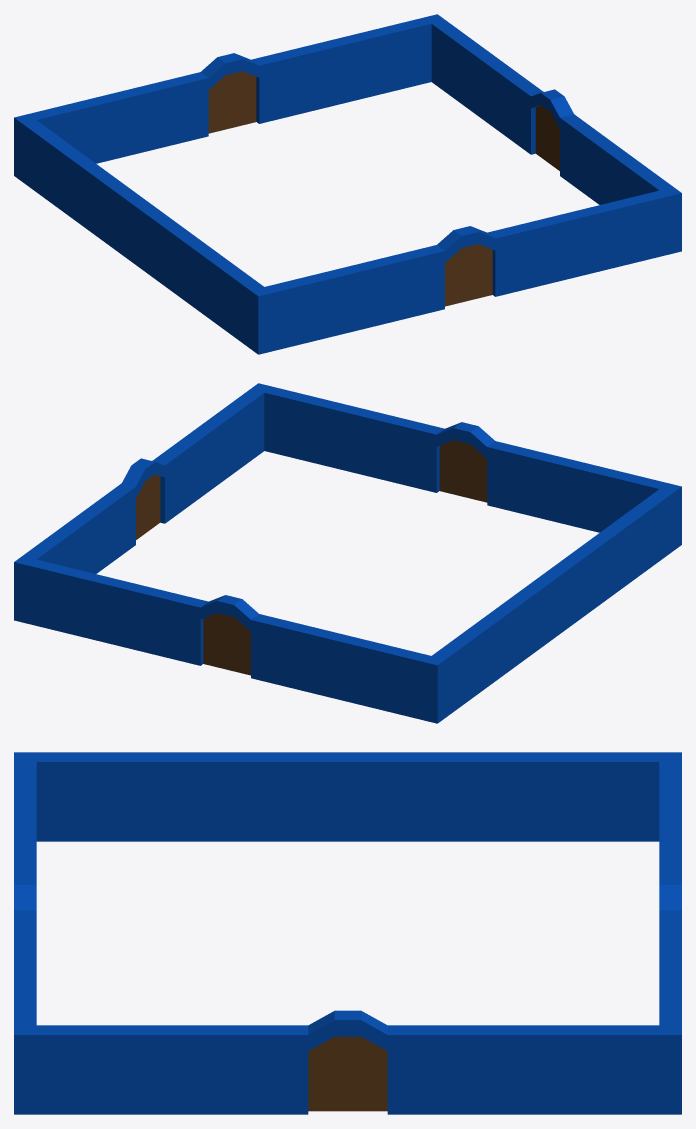
File: ThreeDoor_NW.fbx
3 renders of one model, top to bottom at view 1: azimuth 30°, elevation 25°; view 2: azimuth 150°, elevation 25°; view 3: azimuth 270°, elevation 25°, orthographic. The views are drawn at different scales.
Visible parts, largest first — view 1: walls, N_door, S_door, E_door; view 2: walls, S_door, N_door, E_door; view 3: walls, E_door.
Boxes of the visible parts, x1,y1,x2,y2 form: walls: (14, 14, 681, 354); N_door: (208, 71, 256, 133); S_door: (445, 244, 492, 306); E_door: (535, 105, 559, 170); walls: (14, 383, 681, 723); S_door: (439, 440, 487, 502); N_door: (203, 613, 250, 675); E_door: (136, 474, 160, 539); walls: (14, 752, 681, 1114); E_door: (308, 1036, 387, 1111).
Bounding box in the file's own units: 3567 × 556 × 3566.
